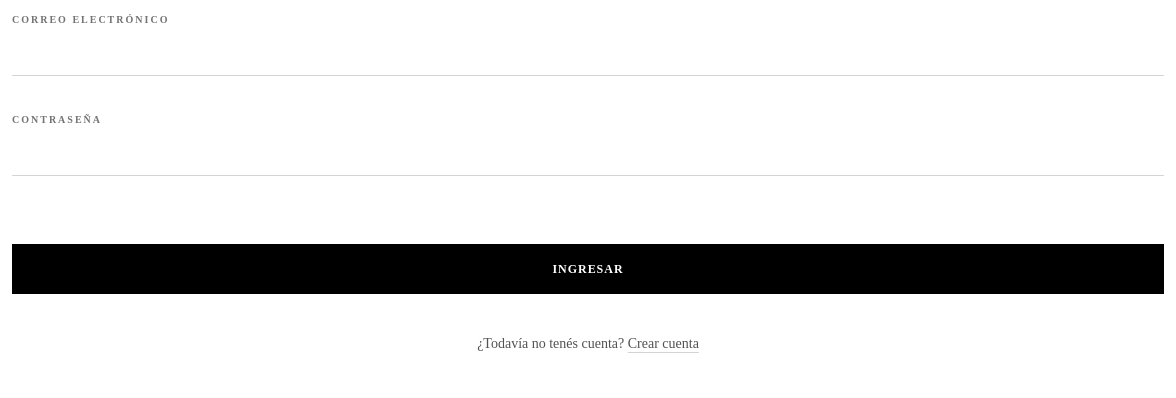
Test case: SignInForm: submit › survives a rejected server action with a generic message
The width and height of the screenshot is (1176, 398).
Step 1. Type "ana@example.com" into the field labelled "Correo electrónico" → (588, 52), box [12, 27, 1164, 76]
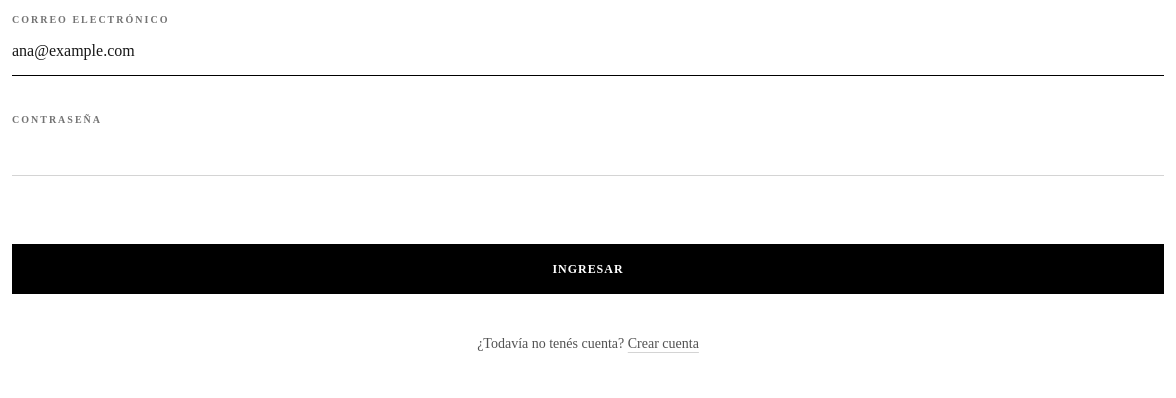
Step 2. Type "secret-123" into the password field labelled "Contraseña" → (588, 152), box [12, 127, 1164, 176]
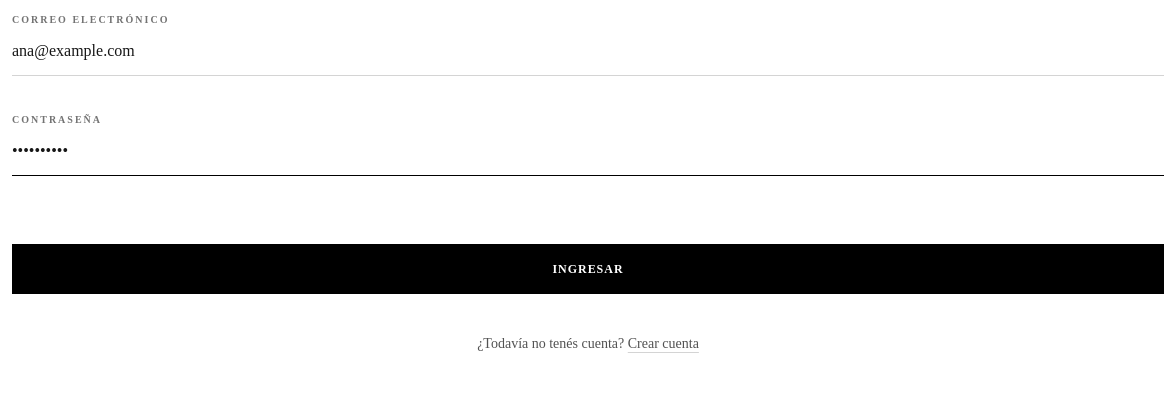
Step 3. Click the button "Ingresar" → (588, 269), box [12, 244, 1164, 294]
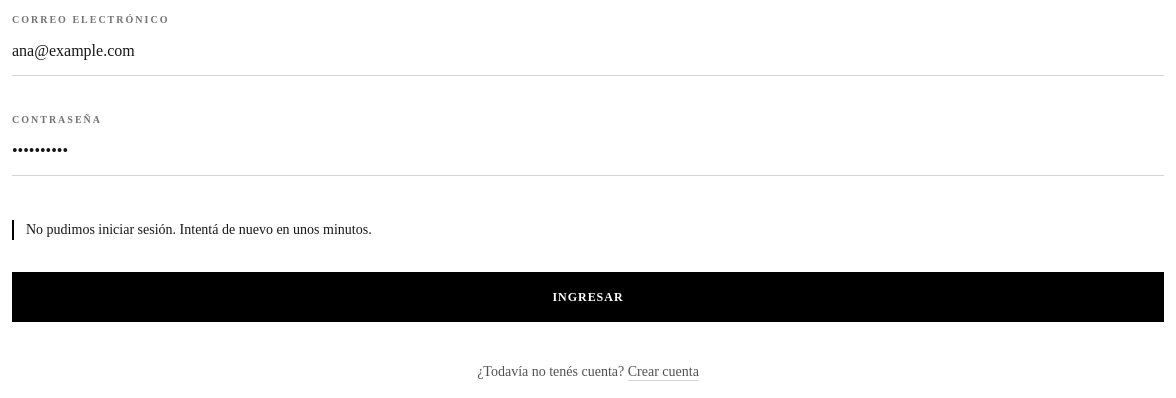
Check: the message shows "No pudimos iniciar sesión", box [26, 222, 372, 237]
